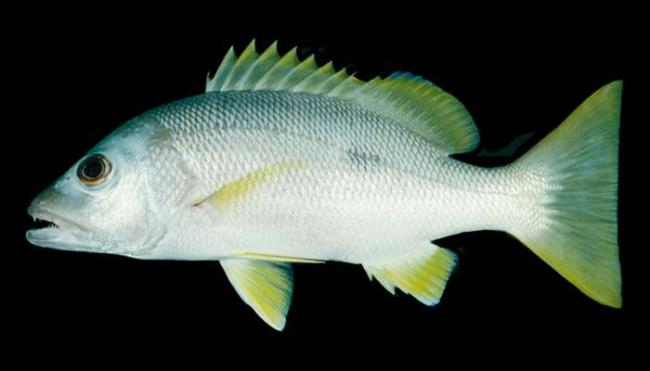fish: (25, 37, 623, 332)
